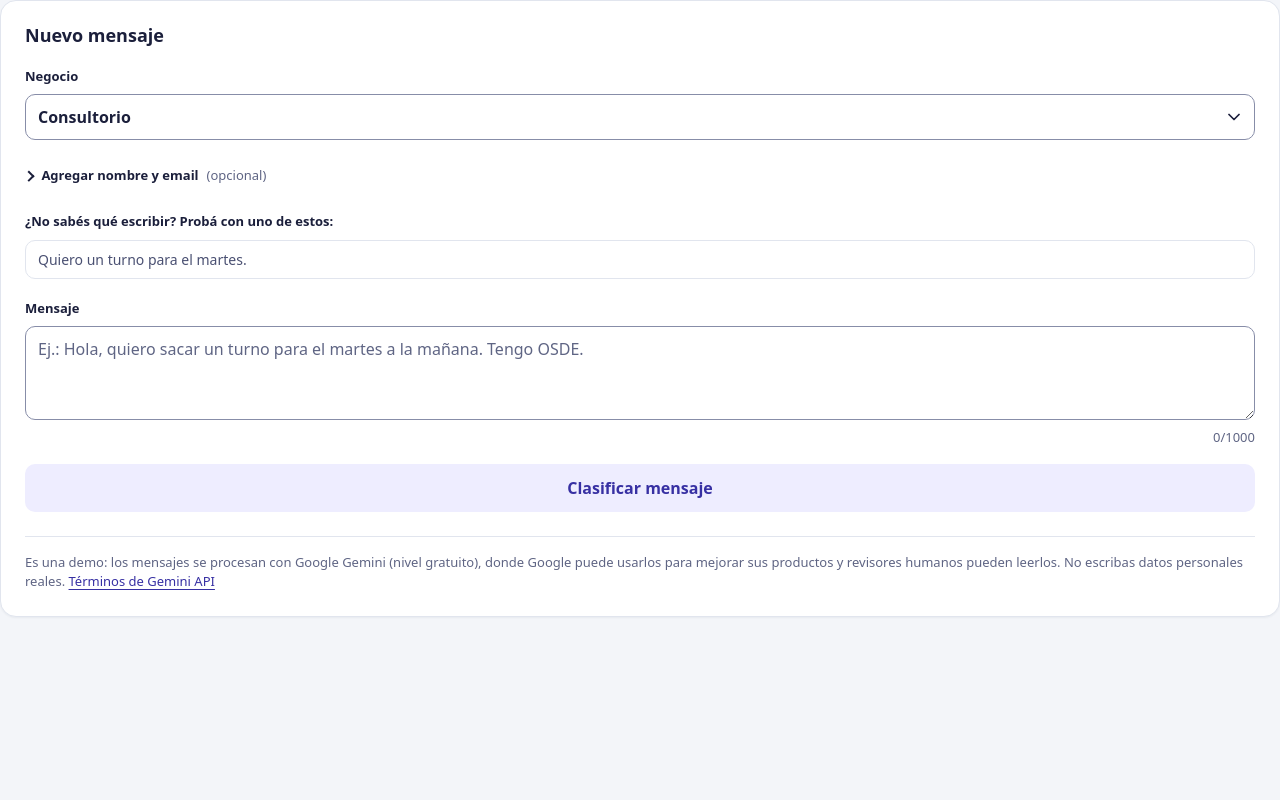
Test case: MessageForm › tells the user the API is waking up when the request is slow
Replace the text in the text box labelled "Mensaje" with "Hola": (640, 373) [25,326,1255,420]
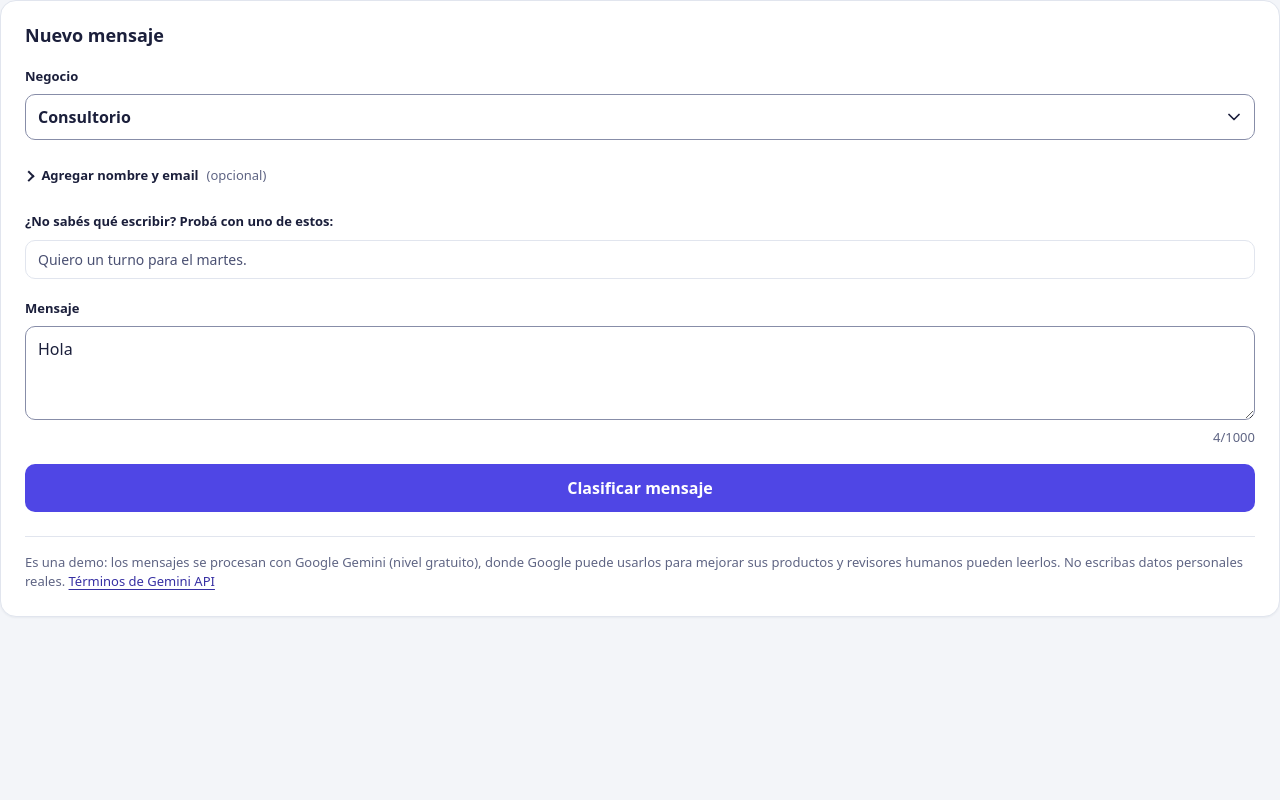
Click the button "Clasificar mensaje": (640, 488) [25,464,1255,512]
Wait 3000 ms
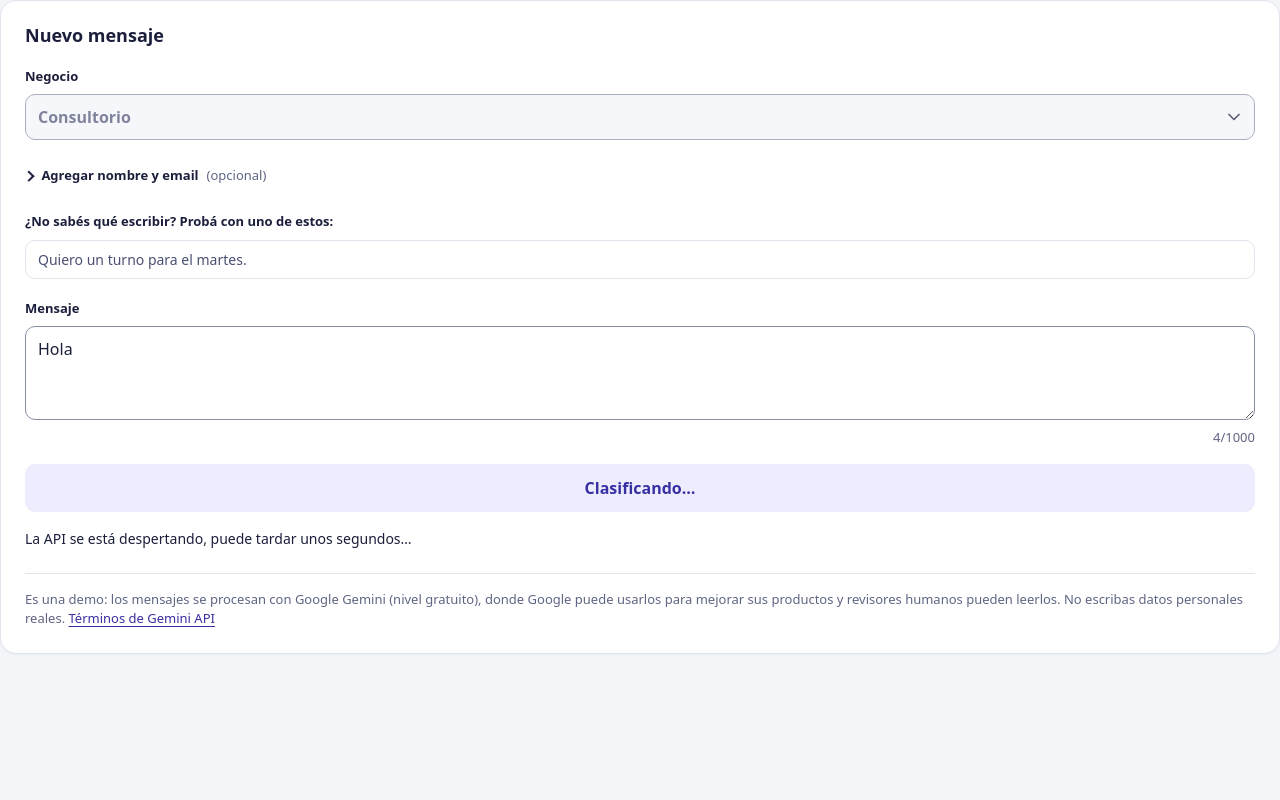
Now the text "La API se está despertando, puede tardar unos segundos…" is shown, box [25,529,412,548]
